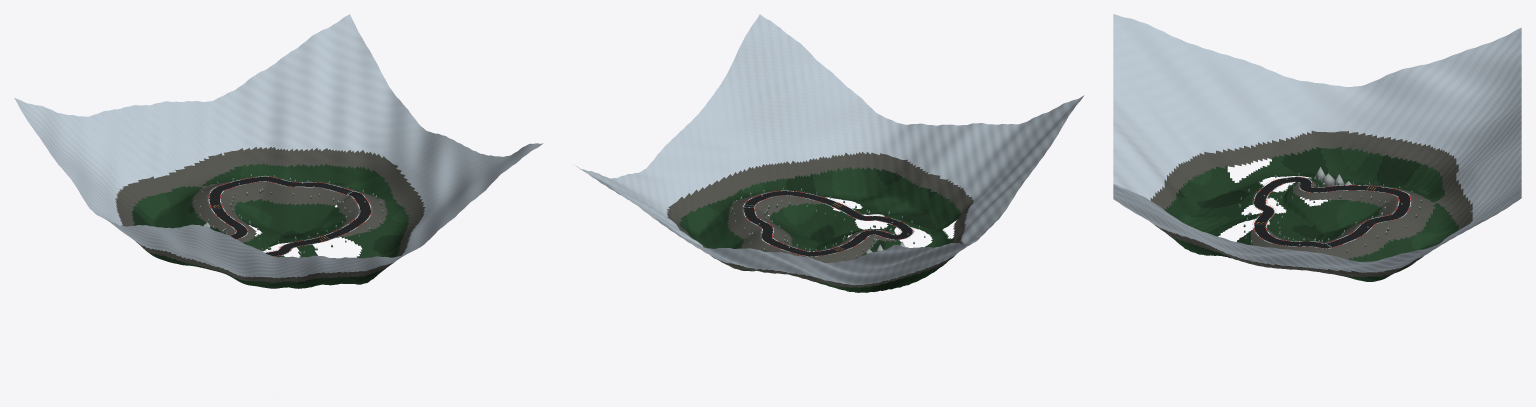
Rendered from rovers_rift.glb.
3 renders of one model, left to right at view 1: azimuth 30°, elevation 25°; view 2: azimuth 150°, elevation 25°; view 3: azimuth 270°, elevation 25°, orthographic. The views are drawn at different scales.
Parts seen in each view (by area): view 1: rovers_rift - Blender Mountain Course - Combined Blender Geo; view 2: rovers_rift - Blender Mountain Course - Combined Blender Geo; view 3: rovers_rift - Blender Mountain Course - Combined Blender Geo.
Boxes of the visible parts, x1,y1,x2,y2 form: rovers_rift - Blender Mountain Course - Combined Blender Geo: (14,14,543,288); rovers_rift - Blender Mountain Course - Combined Blender Geo: (575,14,1084,292); rovers_rift - Blender Mountain Course - Combined Blender Geo: (1113,14,1521,281).
Bounding box in the file's own units: 844 × 671 × 844.
Materials: 25 (6 with a texture image).
